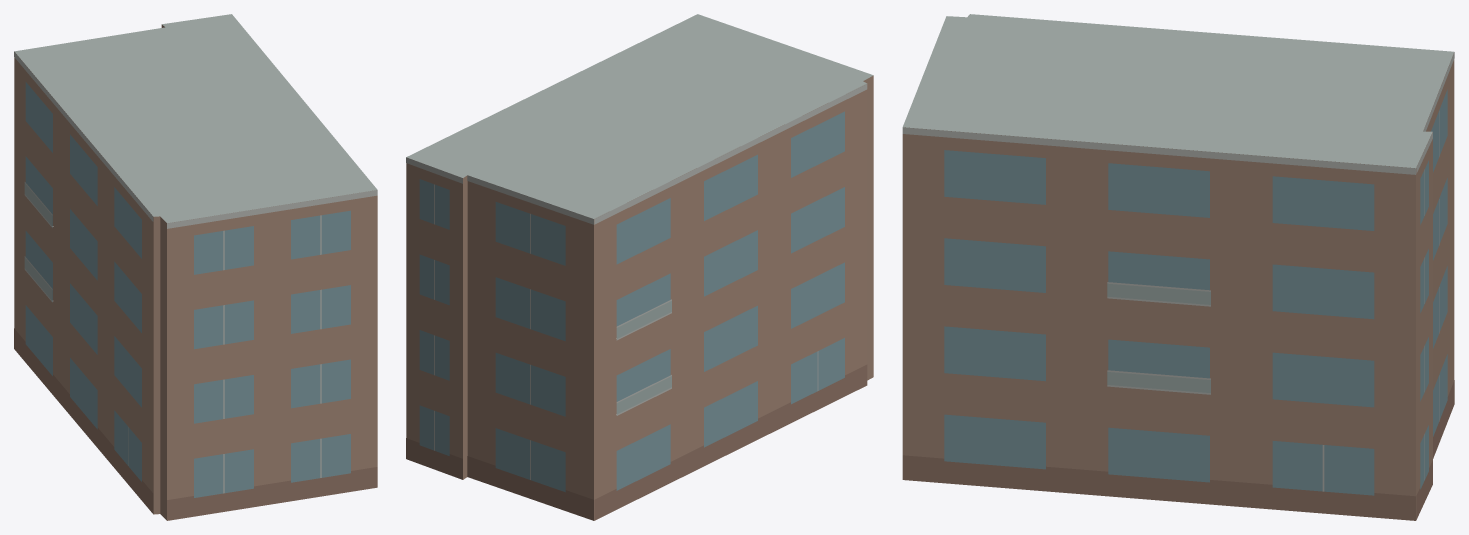
The model's file is survey-upis-32536617.glb.
3 renders of one model, left to right at view 1: azimuth 30°, elevation 25°; view 2: azimuth 150°, elevation 25°; view 3: azimuth 270°, elevation 25°, orthographic. The views are drawn at different scales.
Parts seen in each view (by area): view 1: survey-upis-32536617.tmp; view 2: survey-upis-32536617.tmp; view 3: survey-upis-32536617.tmp.
Part boxes in pixels (x1,y1,x2,y2): survey-upis-32536617.tmp: (14, 14, 377, 520); survey-upis-32536617.tmp: (406, 14, 873, 520); survey-upis-32536617.tmp: (902, 14, 1454, 520).
Size of the model in its own units: 12.01 by 12.8 by 18.16.
